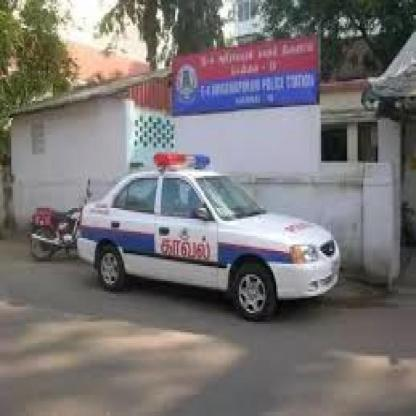priority: (65, 138, 360, 324)
